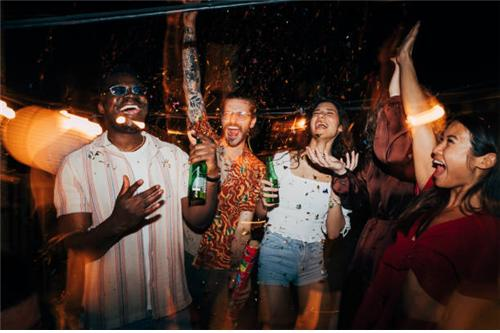alcohol: (188, 136, 210, 206), (264, 155, 281, 206)
